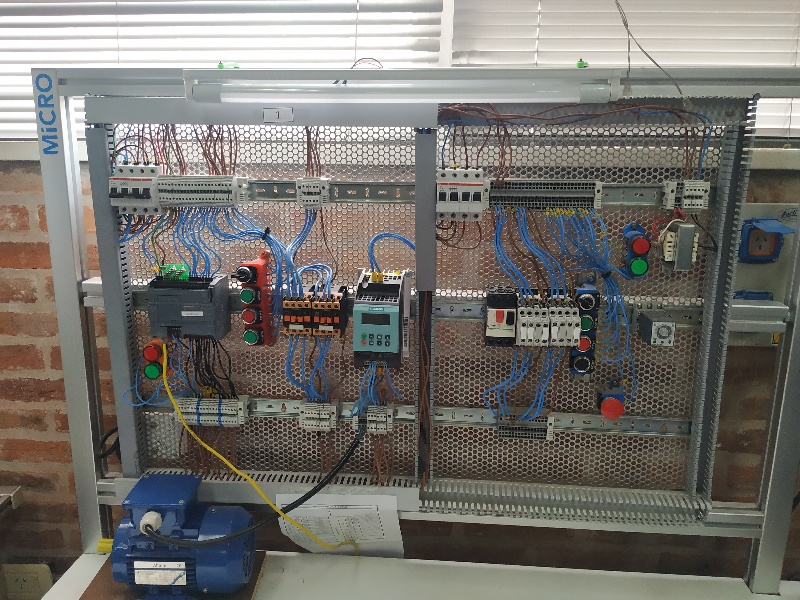Tablero 1: (94, 111, 722, 522)
